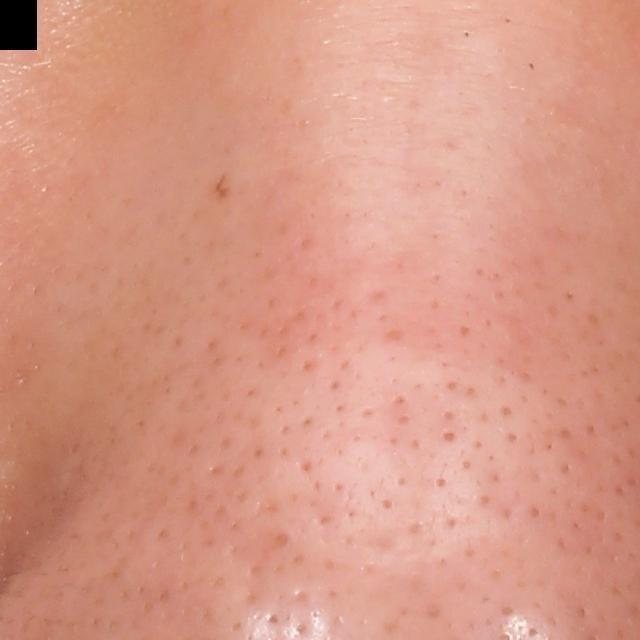nevus: (215, 173, 228, 201)
